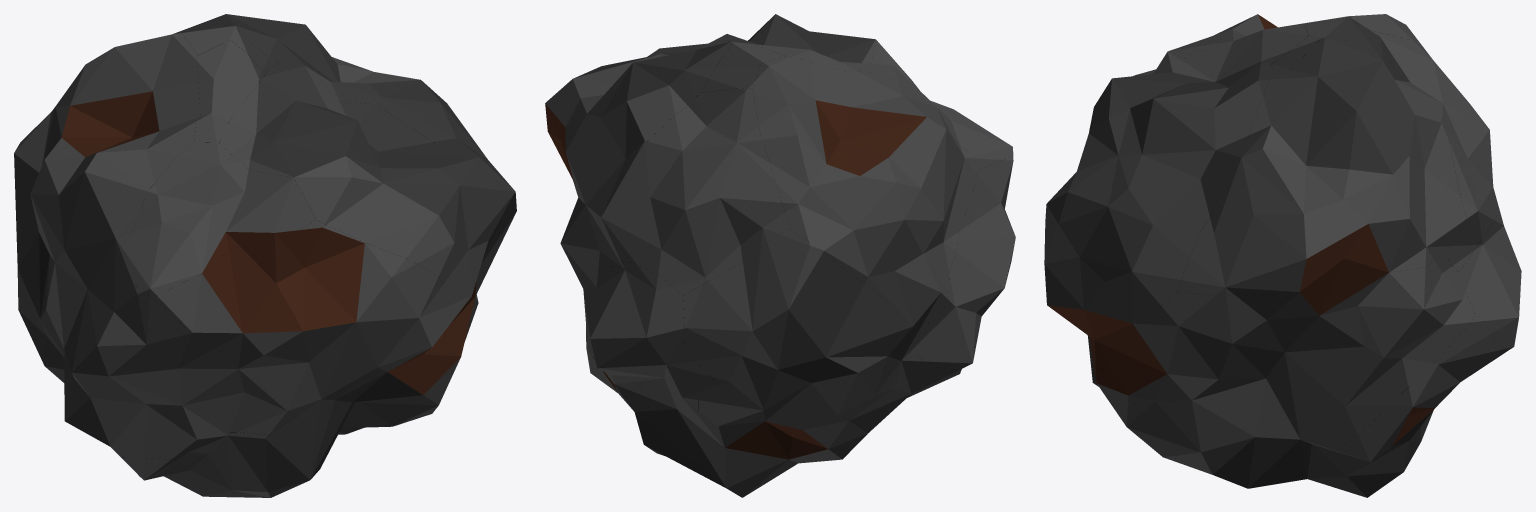
Rendered from Asteroid_Big_1.fbx.
3 views of the same model, side by side, from view 1: azimuth 30°, elevation 25°; view 2: azimuth 150°, elevation 25°; view 3: azimuth 270°, elevation 25° (orthographic). The views are drawn at different scales.
Visible parts, largest first — view 1: Cube.002_cell.009, Cube.002_cell.011, Cube.002_cell.004, Cube.002_cell.016, Cube.002_cell, Cube.002_cell.008, Cube.002_cell.001, Cube.002_cell.006, Cube.002_cell.014, Cube.002_cell.012, Cube.002_cell.003, Cube.002_cell.007 (+1 smaller); view 2: Cube.002_cell.004, Cube.002_cell.014, Cube.002_cell.005, Cube.002_cell.001, Cube.002_cell.016, Cube.002_cell.002, Cube.002_cell.010, Cube.002_cell.017, Cube.002_cell.011, Cube.002_cell.013, Cube.002_cell, Cube.002_cell.007 (+4 smaller); view 3: Cube.002_cell.001, Cube.002_cell.007, Cube.002_cell.011, Cube.002_cell.015, Cube.002_cell.005, Cube.002_cell.002, Cube.002_cell.009, Cube.002_cell.006, Cube.002_cell.012, Cube.002_cell.003, Cube.002_cell.004, Cube.002_cell.017 (+1 smaller).
Part boxes in pixels (left/top/right/bottom): Cube.002_cell.009: left=151, top=220, right=466, bottom=415; Cube.002_cell.011: left=219, top=60, right=516, bottom=301; Cube.002_cell.004: left=14, top=32, right=200, bottom=339; Cube.002_cell.016: left=57, top=263, right=296, bottom=459; Cube.002_cell: left=117, top=142, right=316, bottom=295; Cube.002_cell.008: left=121, top=387, right=418, bottom=497; Cube.002_cell.001: left=207, top=14, right=499, bottom=173; Cube.002_cell.006: left=194, top=40, right=266, bottom=142; Cube.002_cell.014: left=14, top=140, right=64, bottom=382; Cube.002_cell.012: left=397, top=349, right=460, bottom=422; Cube.002_cell.003: left=178, top=21, right=278, bottom=70; Cube.002_cell.007: left=444, top=204, right=516, bottom=357; Cube.002_cell.004: left=752, top=56, right=979, bottom=328; Cube.002_cell.014: left=683, top=228, right=923, bottom=437; Cube.002_cell.005: left=598, top=88, right=790, bottom=295; Cube.002_cell.001: left=545, top=37, right=732, bottom=236; Cube.002_cell.016: left=911, top=156, right=1015, bottom=374; Cube.002_cell.002: left=587, top=261, right=684, bottom=372; Cube.002_cell.010: left=635, top=372, right=799, bottom=481; Cube.002_cell.017: left=711, top=369, right=897, bottom=497; Cube.002_cell.011: left=647, top=14, right=876, bottom=63; Cube.002_cell.013: left=663, top=353, right=768, bottom=435; Cube.002_cell: left=871, top=40, right=1013, bottom=169; Cube.002_cell.007: left=553, top=142, right=605, bottom=316; Cube.002_cell.001: left=1178, top=36, right=1466, bottom=296; Cube.002_cell.007: left=1118, top=255, right=1474, bottom=482; Cube.002_cell.011: left=1051, top=49, right=1275, bottom=336; Cube.002_cell.015: left=1256, top=313, right=1505, bottom=497; Cube.002_cell.005: left=1376, top=32, right=1499, bottom=272; Cube.002_cell.002: left=1459, top=212, right=1521, bottom=352; Cube.002_cell.009: left=1044, top=121, right=1123, bottom=370; Cube.002_cell.006: left=1195, top=24, right=1308, bottom=66; Cube.002_cell.012: left=1095, top=370, right=1175, bottom=461; Cube.002_cell.003: left=1271, top=19, right=1391, bottom=71; Cube.002_cell.004: left=1206, top=14, right=1421, bottom=44; Cube.002_cell.017: left=1174, top=433, right=1424, bottom=497.
Size of the model in its own units: 1475 by 1440 by 1388.
